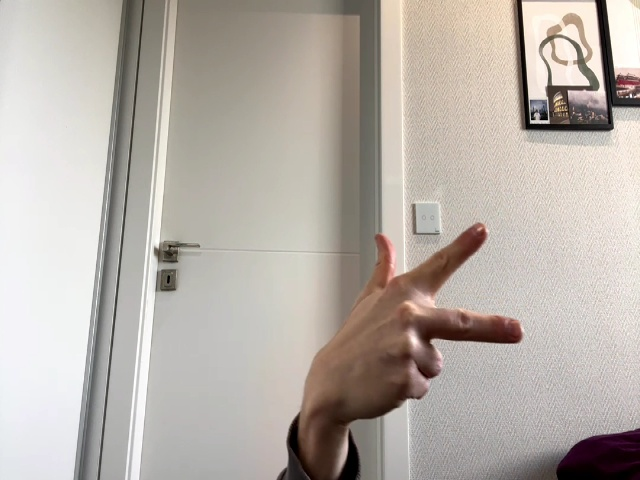K: (315, 223, 524, 413)
